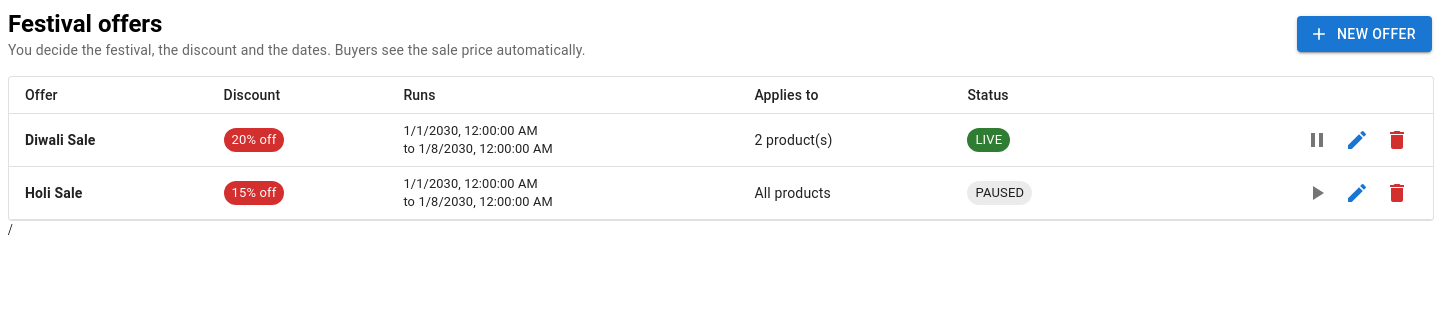
Test case: OfferManager list › shows why an update failed
Expected: the text "Diwali Sale" is shown, [9,114,208,166]
Click the button named "Pause Diwali Sale". click: (1317, 140)
box: [1297,120,1337,160]
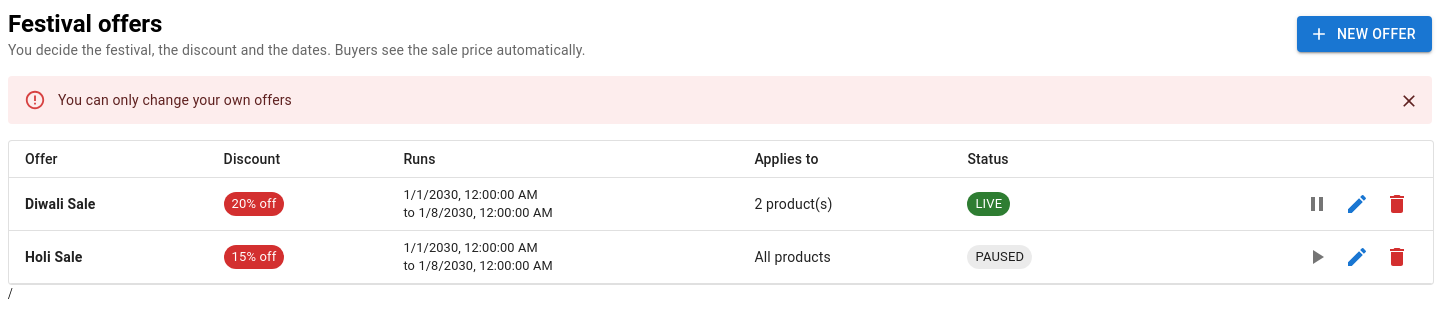
Now the text "You can only change your own offers" is shown, box [58,92,292,108]
